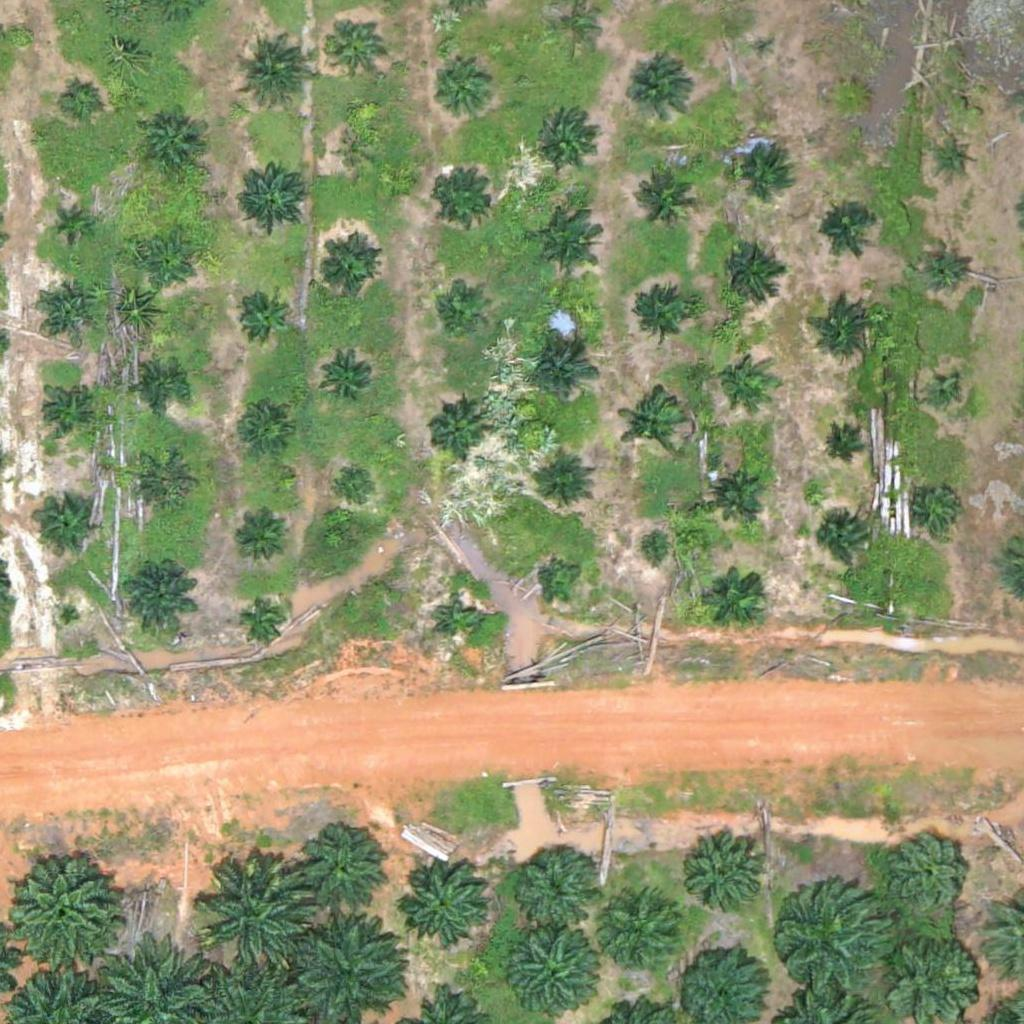Kelapa_Sawit: (196, 850, 321, 976), (772, 876, 897, 1002), (2, 853, 115, 967), (885, 921, 985, 1021), (506, 933, 594, 1021), (509, 841, 596, 929), (300, 831, 387, 919), (398, 857, 485, 945), (599, 887, 686, 975), (685, 830, 772, 918), (886, 834, 973, 922), (625, 286, 700, 362), (528, 205, 603, 281), (621, 58, 696, 134), (629, 160, 704, 236), (121, 558, 196, 634), (617, 388, 692, 464), (233, 39, 308, 114), (235, 153, 310, 228), (526, 337, 601, 412), (34, 275, 97, 338), (730, 135, 793, 198), (315, 237, 378, 300), (320, 344, 383, 407), (35, 494, 98, 557), (707, 565, 770, 628), (534, 455, 597, 518), (706, 460, 769, 523), (426, 403, 489, 466), (138, 113, 200, 176), (816, 297, 878, 360), (815, 197, 877, 260), (433, 167, 495, 230), (719, 243, 782, 305), (536, 109, 598, 172), (435, 62, 497, 125), (325, 16, 387, 79), (134, 453, 196, 516), (140, 240, 190, 291), (235, 291, 285, 342), (239, 404, 289, 455), (539, 553, 589, 604), (433, 595, 483, 646), (332, 462, 382, 513), (135, 362, 185, 412), (715, 352, 765, 402), (434, 285, 484, 335), (234, 515, 284, 565), (39, 385, 89, 435), (816, 515, 866, 565), (916, 482, 966, 532), (918, 241, 968, 291), (549, 2, 599, 52), (240, 596, 290, 646), (935, 139, 973, 177), (925, 377, 963, 415), (634, 531, 672, 569), (832, 79, 870, 117), (820, 428, 857, 466), (339, 133, 376, 171), (50, 206, 87, 244), (64, 82, 102, 119), (752, 33, 777, 58)
